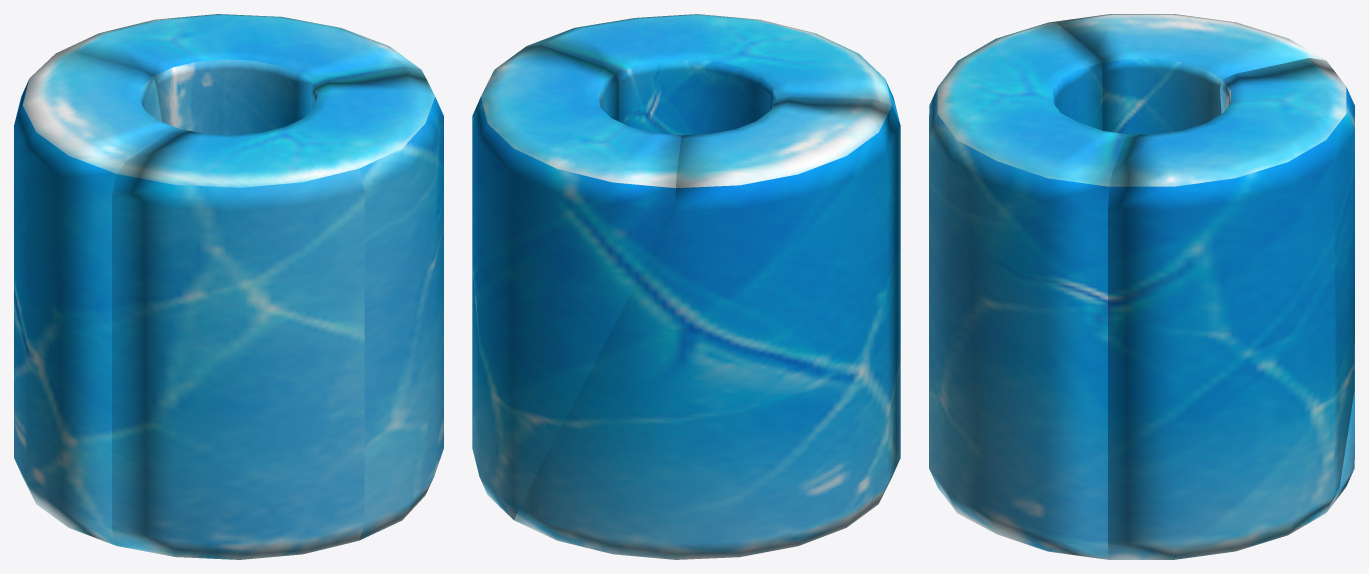
The model's file is ShatteredVisual.fbx.
The picture shows the model from 3 angles, left to right: view 1: azimuth 30°, elevation 25°; view 2: azimuth 150°, elevation 25°; view 3: azimuth 270°, elevation 25°; orthographic projection.
Parts seen in each view (by area): view 1: Shard_1, Shard_2, Shard_0; view 2: Shard_2, Shard_0, Shard_1; view 3: Shard_0, Shard_1, Shard_2.
Part boxes in pixels (<box>): Shard_1: <box>112,66,443,559</box>; Shard_2: <box>14,51,179,545</box>; Shard_0: <box>56,14,420,134</box>; Shard_2: <box>514,97,900,559</box>; Shard_0: <box>472,45,681,519</box>; Shard_1: <box>527,14,899,135</box>; Shard_0: <box>1108,58,1354,559</box>; Shard_1: <box>929,22,1127,559</box>; Shard_2: <box>1049,14,1354,511</box>.
Size of the model in its own units: 100 by 100 by 100.
